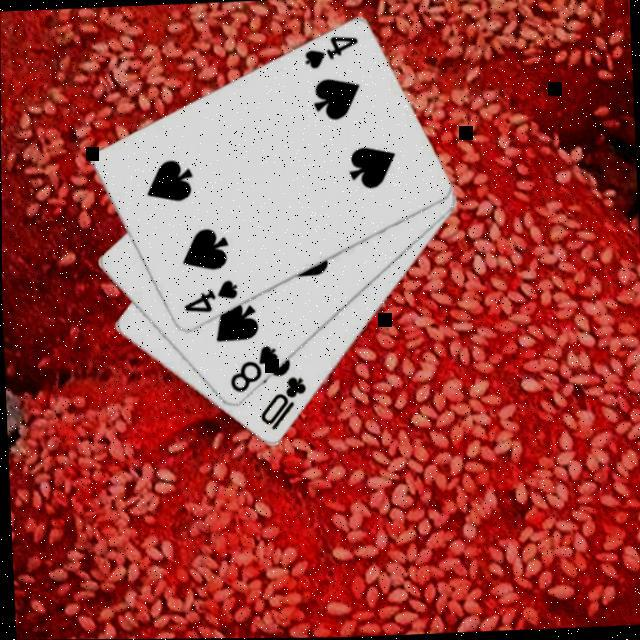10C: (253, 372, 309, 432)
4S: (177, 276, 239, 316), (299, 32, 360, 72)
8S: (223, 341, 279, 395)
